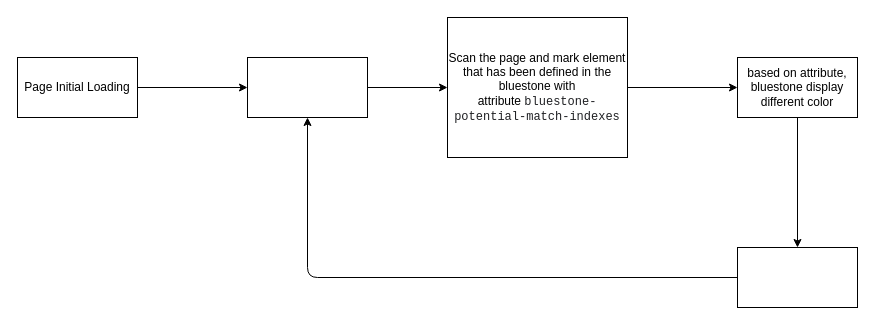
Some shapes in this 875 by 325 pixel diagram are drawn without their labels. Here are the shapes that lost their labels. From the top down, the centre of each, then its label:
(x=307, y=87): clear attribute "bluestone-potential-match" from all elements
(x=797, y=277): there is a change in the web page
